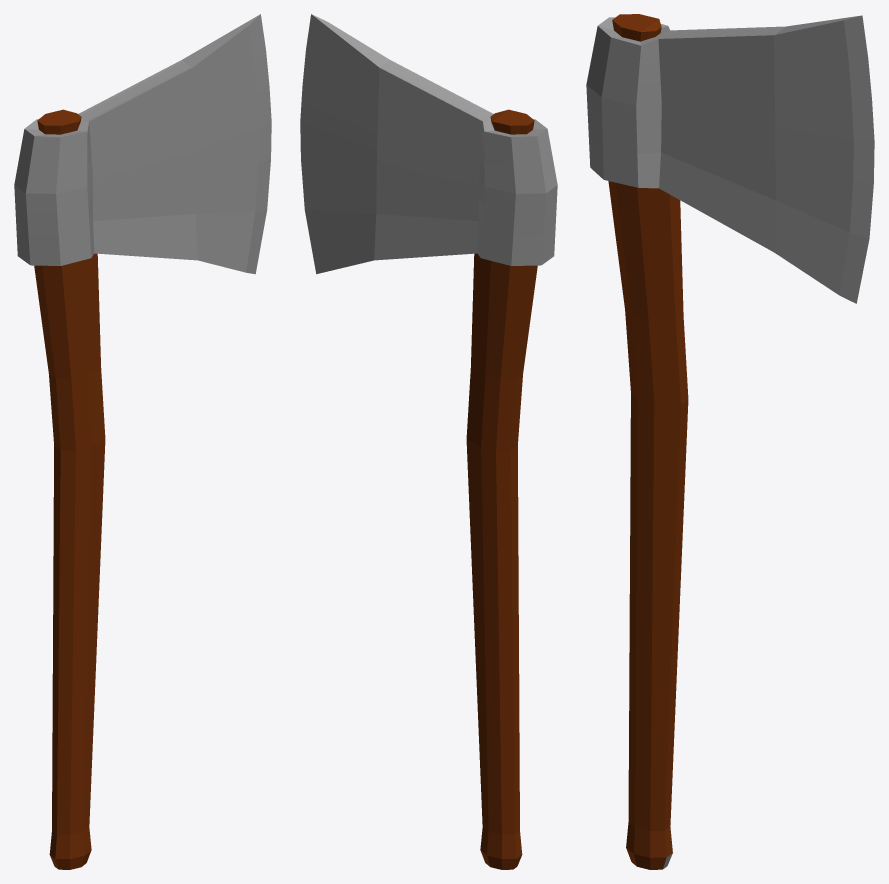
The model's file is AxeV1.fbx.
The picture shows the model from 3 angles, left to right: view 1: azimuth 30°, elevation 25°; view 2: azimuth 150°, elevation 25°; view 3: azimuth 330°, elevation 25°; orthographic projection. The views are drawn at different scales.
Parts seen in each view (by area): view 1: Circle; view 2: Circle; view 3: Circle.
Part boxes in pixels (x1,y1,x2,y2): Circle: [14, 14, 271, 869]; Circle: [300, 14, 557, 869]; Circle: [586, 14, 874, 869].
Size of the model in its own units: 1434 by 4380 by 305.
